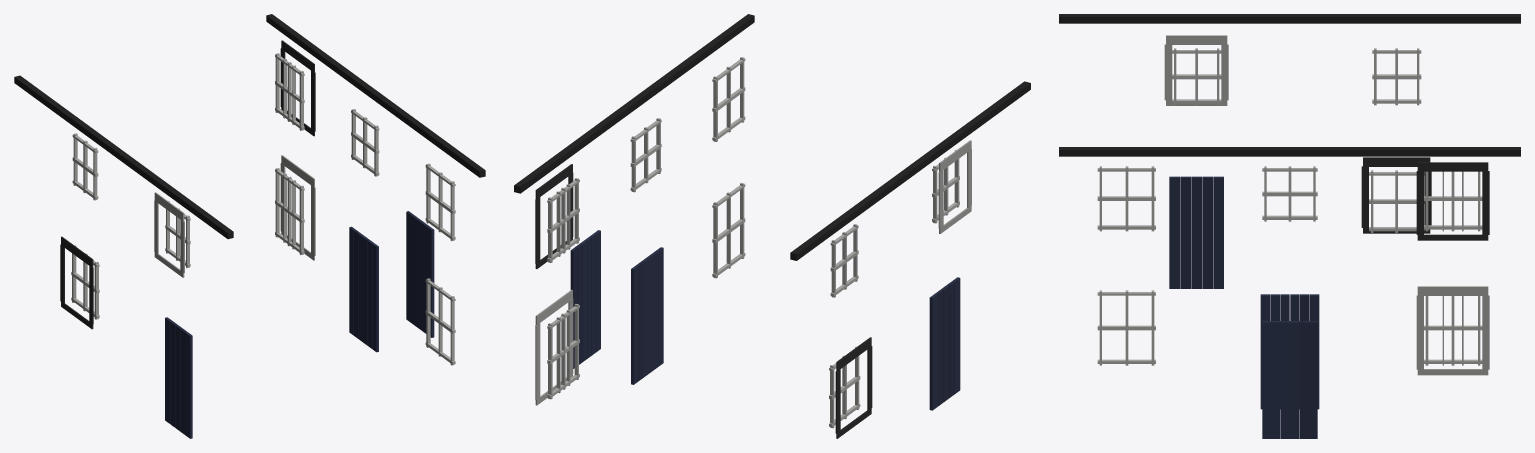
The model's file is SM_Bld_215_Wood.glb.
The picture shows the model from 3 angles, left to right: view 1: azimuth 30°, elevation 25°; view 2: azimuth 150°, elevation 25°; view 3: azimuth 270°, elevation 25°; orthographic projection. The views are drawn at different scales.
Parts seen in each view (by area): view 1: SM_Bld_215_Wood; view 2: SM_Bld_215_Wood; view 3: SM_Bld_215_Wood.
Part boxes in pixels (box(x1,y1,x2,y2)): SM_Bld_215_Wood: box(14, 14, 485, 438); SM_Bld_215_Wood: box(514, 14, 1030, 438); SM_Bld_215_Wood: box(1059, 14, 1520, 438).
Bounding box in the file's own units: 6.12 × 4.8 × 7.54.
